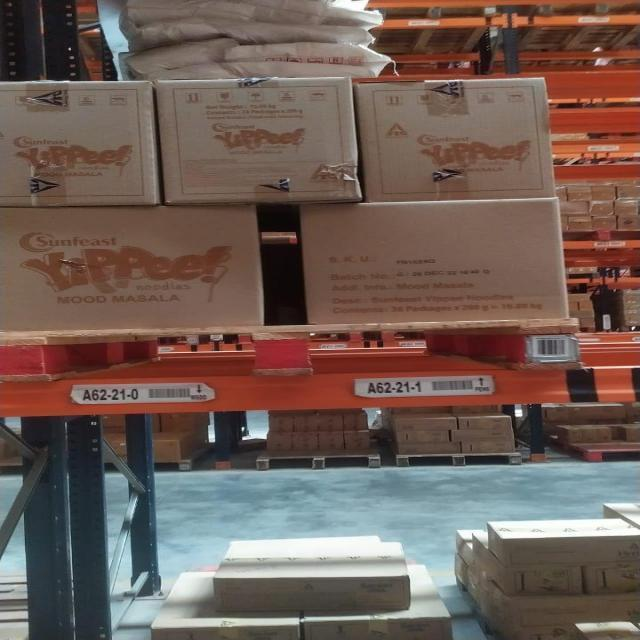box: (0, 77, 573, 321)
